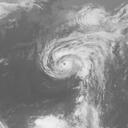cyclone: (38, 38, 93, 80)
